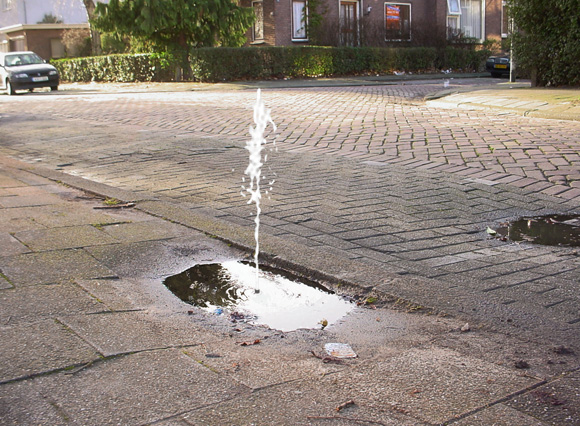pothole: (152, 223, 381, 339)
